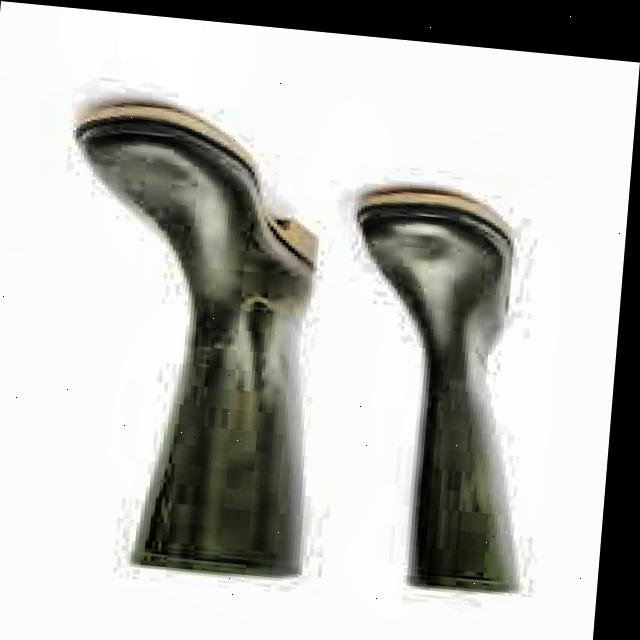shoes: (0, 76, 587, 629)
